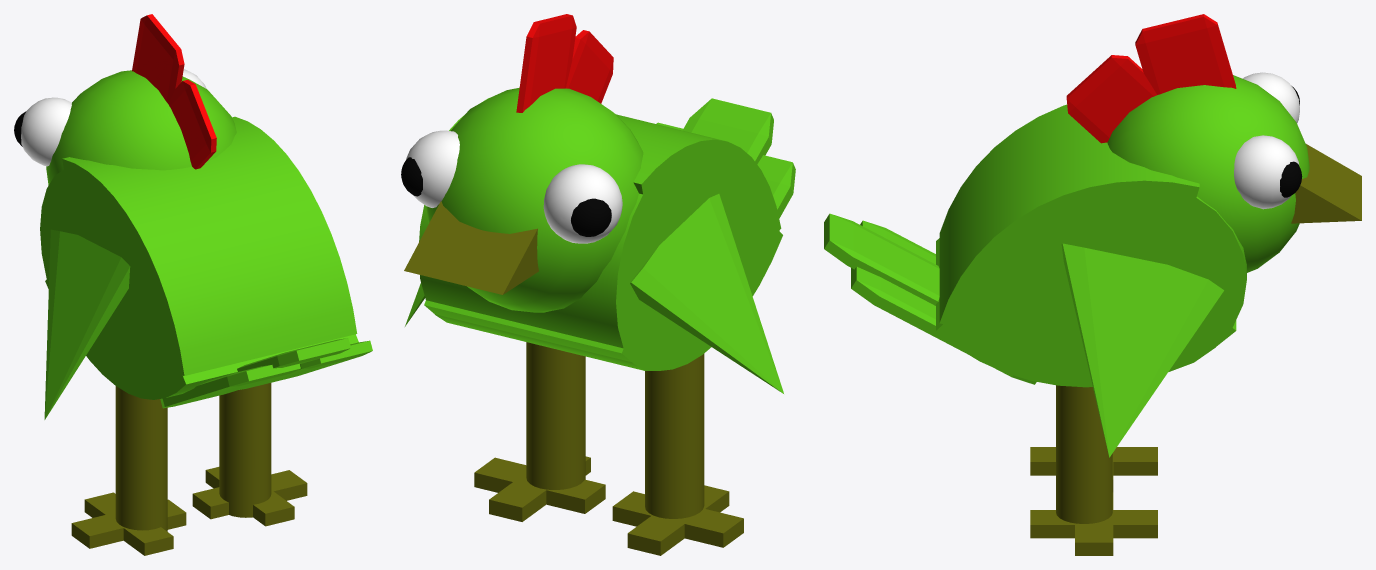
The model's file is green-chicken.glb.
3 views of the same model, side by side, from view 1: azimuth 30°, elevation 25°; view 2: azimuth 150°, elevation 25°; view 3: azimuth 270°, elevation 25° (orthographic). The views are drawn at different scales.
Visible parts, largest first — view 1: mergedBlocks(Clone); view 2: mergedBlocks(Clone); view 3: mergedBlocks(Clone).
Boxes of the visible parts, x1,y1,x2,y2 form: mergedBlocks(Clone): (14,14,372,555); mergedBlocks(Clone): (401,14,795,555); mergedBlocks(Clone): (824,14,1361,555).
Size of the model in its own units: 1.86 by 2.55 by 2.53.
